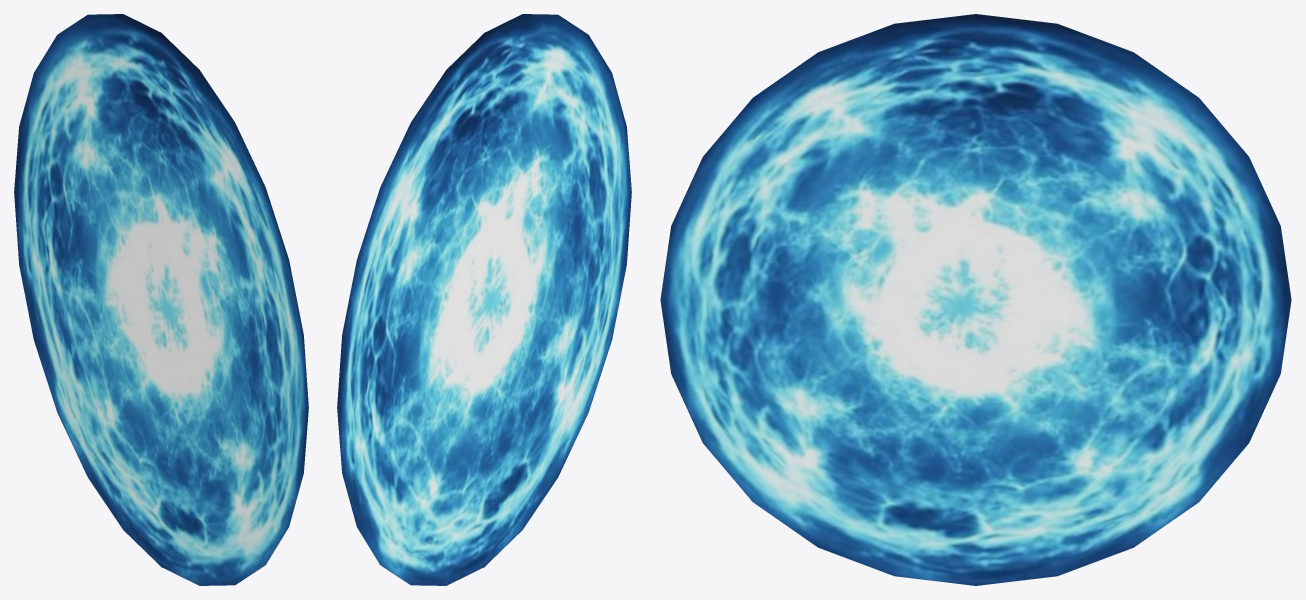
The model's file is portal_magic.glb.
3 views of the same model, side by side, from view 1: azimuth 30°, elevation 25°; view 2: azimuth 150°, elevation 25°; view 3: azimuth 270°, elevation 25° (orthographic). The views are drawn at different scales.
Visible parts, largest first — view 1: Object_4; view 2: Object_4; view 3: Object_4.
Part boxes in pixels (left/top/right/bottom): Object_4: left=14, top=14, right=308, bottom=585; Object_4: left=337, top=14, right=631, bottom=585; Object_4: left=660, top=14, right=1291, bottom=585.
Bounding box in the file's own units: 0 × 10.6 × 10.6.
1 material, 1 textured.
